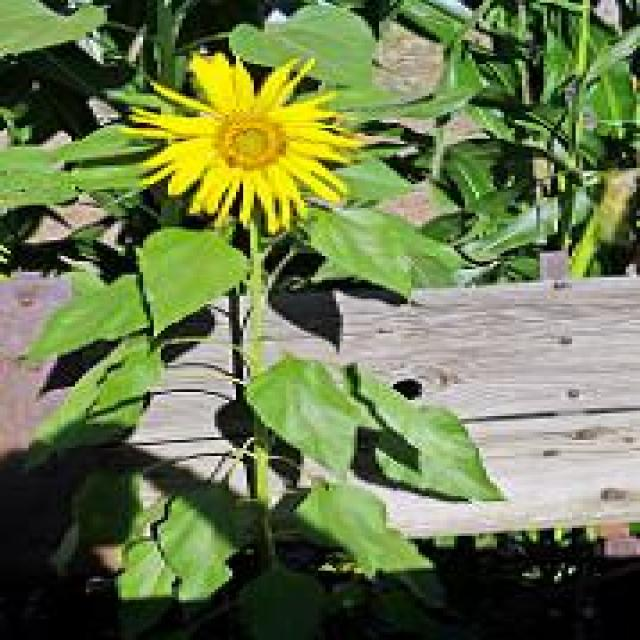sunflower: (140, 49, 361, 231)
